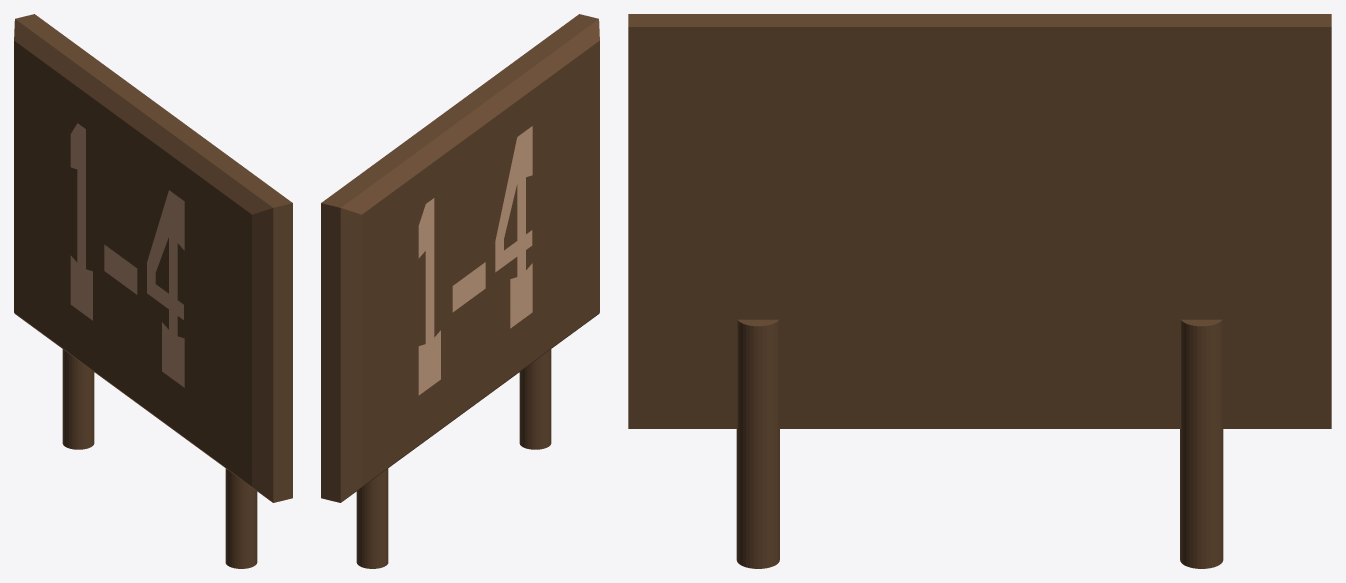
The picture shows the model from 3 angles, left to right: view 1: azimuth 30°, elevation 25°; view 2: azimuth 150°, elevation 25°; view 3: azimuth 270°, elevation 25°; orthographic projection. The views are drawn at different scales.
Parts seen in each view (by area): view 1: Cube.007, Text, Cylinder, Cylinder.001; view 2: Cube.007, Text, Cylinder.001, Cylinder; view 3: Cube.007, Cylinder, Cylinder.001.
Part boxes in pixels (left/top/right/bottom): Cube.007: left=14, top=14, right=292, bottom=502; Text: left=70, top=123, right=184, bottom=387; Cylinder: left=62, top=349, right=94, bottom=449; Cylinder.001: left=225, top=468, right=257, bottom=568; Cube.007: left=321, top=14, right=599, bottom=502; Text: left=418, top=126, right=532, bottom=395; Cylinder.001: left=519, top=349, right=551, bottom=449; Cylinder: left=356, top=468, right=388, bottom=568; Cube.007: left=628, top=14, right=1331, bottom=428; Cylinder: left=1180, top=319, right=1223, bottom=568; Cylinder.001: left=736, top=319, right=779, bottom=568.
Size of the model in its own units: 28.97 by 266 by 317.
